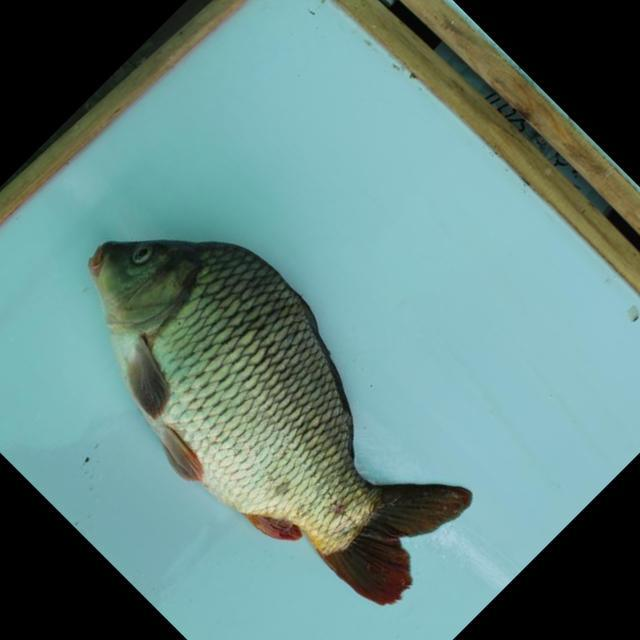CommonCarp: (81, 234, 476, 609)
